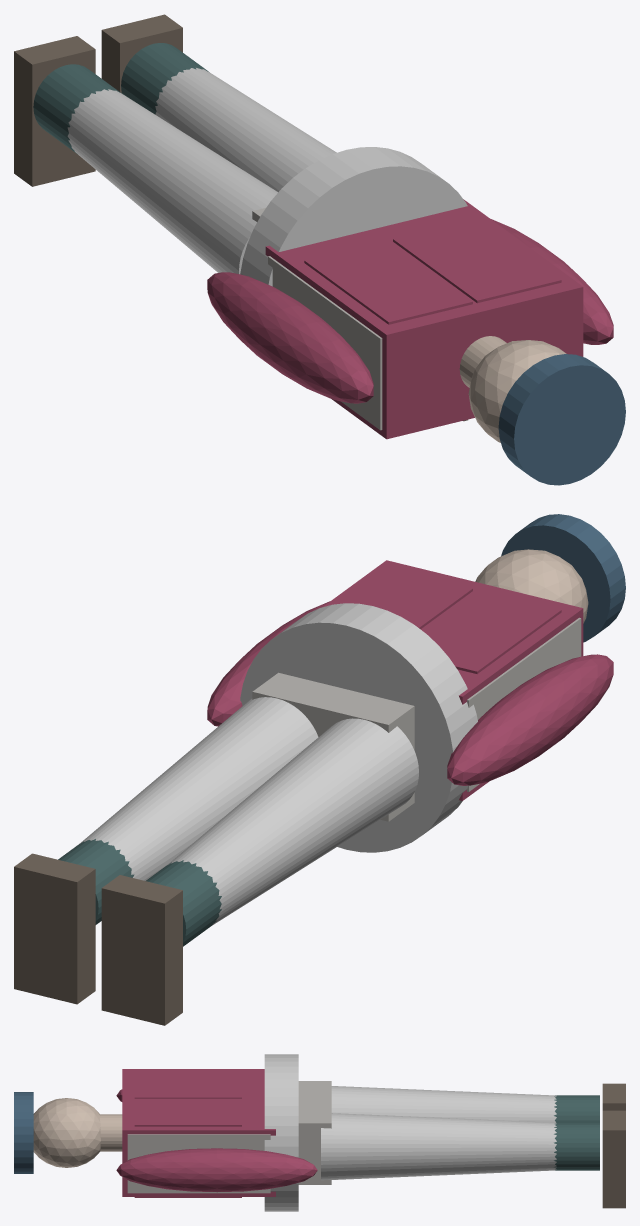
The model's file is MASTER_016_STAGE3_DETAIL.glb.
3 views of the same model, one above another, from view 1: azimuth 30°, elevation 25°; view 2: azimuth 150°, elevation 25°; view 3: azimuth 270°, elevation 25° (orthographic). The views are drawn at different scales.
Parts seen in each view (by area): view 1: slot_upper_inner__këmishë, slot_lower_main__pantallona_L, slot_waist__brez, slot_headwear__mbulesë_koke, slot_upper_inner_sleeve_L, slot_lower_main__pantallona_R, slot_upper_outer__jelek/xhamadan_R, slot_upper_outer__jelek/xhamadan_L, slot_footwear__opinga_L, mannequin_torso, mannequin_head, slot_legwear__çorape_L (+4 smaller); view 2: slot_lower_main__pantallona_L, slot_waist__brez, slot_lower_main__pantallona_R, slot_footwear__opinga_R, slot_footwear__opinga_L, slot_upper_inner_sleeve_L, slot_upper_outer__jelek/xhamadan_L, slot_headwear__mbulesë_koke, mannequin_hips, slot_upper_inner__këmishë, mannequin_head, slot_upper_outer__jelek/xhamadan_R (+4 smaller); view 3: slot_lower_main__pantallona_R, slot_upper_inner_sleeve_R, slot_lower_main__pantallona_L, slot_upper_inner__këmishë, slot_waist__brez, mannequin_head, slot_upper_outer__jelek/xhamadan_R, mannequin_torso, slot_upper_outer__jelek/xhamadan_L, mannequin_hips, slot_footwear__opinga_R, slot_legwear__çorape_R (+4 smaller).
Boxes of the visible parts, left/top/right/bottom form: slot_upper_inner__këmishë: left=265, top=199, right=583, bottom=439; slot_lower_main__pantallona_L: left=67, top=89, right=277, bottom=274; slot_waist__brez: left=240, top=147, right=467, bottom=286; slot_headwear__mbulesë_koke: left=498, top=354, right=625, bottom=485; slot_upper_inner_sleeve_L: left=207, top=272, right=373, bottom=403; slot_lower_main__pantallona_R: left=155, top=68, right=336, bottom=192; slot_upper_outer__jelek/xhamadan_R: left=393, top=218, right=561, bottom=303; slot_upper_outer__jelek/xhamadan_L: left=304, top=240, right=472, bottom=324; slot_footwear__opinga_L: left=14, top=36, right=95, bottom=186; mannequin_torso: left=268, top=256, right=382, bottom=430; mannequin_head: left=468, top=340, right=566, bottom=442; slot_legwear__çorape_L: left=33, top=64, right=121, bottom=154; slot_lower_main__pantallona_L: left=167, top=718, right=418, bottom=925; slot_waist__brez: left=240, top=603, right=477, bottom=852; slot_lower_main__pantallona_R: left=79, top=697, right=318, bottom=880; slot_footwear__opinga_R: left=14, top=853, right=95, bottom=1004; slot_footwear__opinga_L: left=101, top=875, right=182, bottom=1025; slot_upper_inner_sleeve_L: left=447, top=654, right=613, bottom=785; slot_upper_outer__jelek/xhamadan_L: left=422, top=589, right=561, bottom=673; slot_headwear__mbulesë_koke: left=501, top=514, right=625, bottom=642; mannequin_hips: left=252, top=672, right=414, bottom=821; slot_upper_inner__këmishë: left=322, top=560, right=583, bottom=800; mannequin_head: left=475, top=549, right=588, bottom=623; slot_upper_outer__jelek/xhamadan_R: left=340, top=568, right=472, bottom=629; slot_lower_main__pantallona_R: left=321, top=1113, right=556, bottom=1180; slot_upper_inner_sleeve_R: left=116, top=1148, right=317, bottom=1192; slot_lower_main__pantallona_L: left=331, top=1086, right=556, bottom=1122; slot_upper_inner__këmishë: left=122, top=1069, right=275, bottom=1196; slot_waist__brez: left=264, top=1054, right=298, bottom=1211; mannequin_head: left=33, top=1098, right=100, bottom=1167; slot_upper_outer__jelek/xhamadan_R: left=134, top=1098, right=241, bottom=1197; mannequin_torso: left=127, top=1134, right=270, bottom=1193; slot_upper_outer__jelek/xhamadan_L: left=134, top=1071, right=241, bottom=1098; mannequin_hips: left=298, top=1081, right=331, bottom=1184; slot_footwear__opinga_R: left=602, top=1110, right=625, bottom=1208; slot_legwear__çorape_R: left=554, top=1122, right=599, bottom=1170.
Size of the model in its own units: 0.6161 by 0.44 by 1.71.
